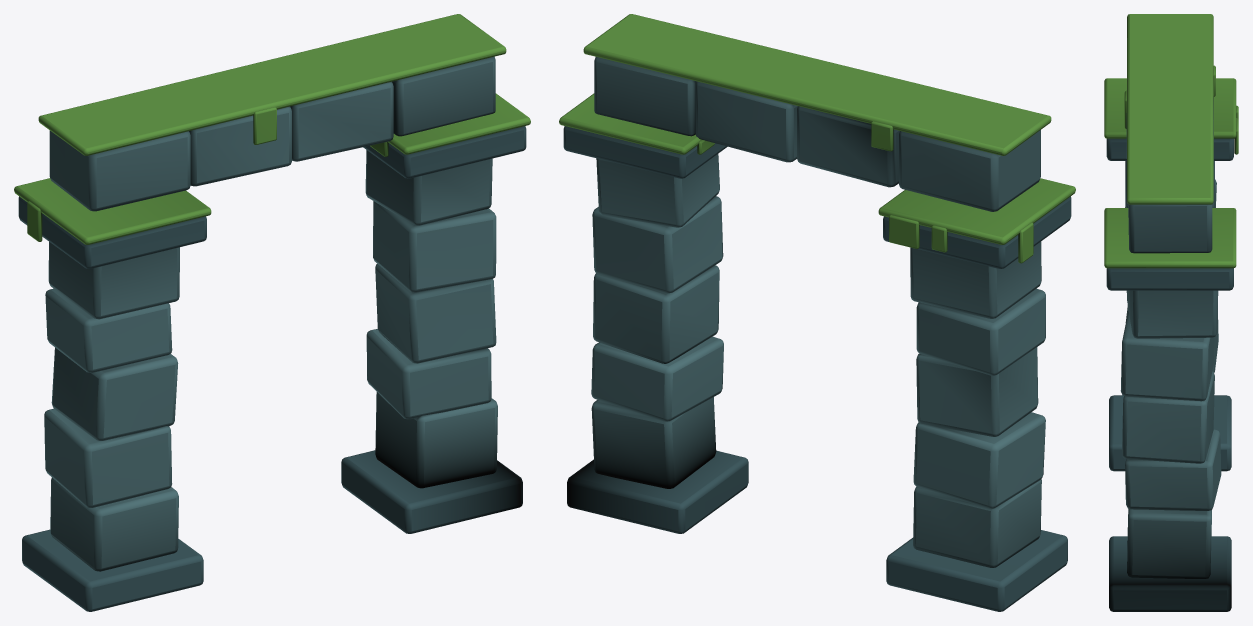
Rendered from ruin_arch.glb.
3 views of the same model, side by side, from view 1: azimuth 30°, elevation 25°; view 2: azimuth 150°, elevation 25°; view 3: azimuth 270°, elevation 25° (orthographic). The views are drawn at different scales.
Parts seen in each view (by area): view 1: ruin_arch_mesh; view 2: ruin_arch_mesh; view 3: ruin_arch_mesh.
Boxes of the visible parts, x1,y1,x2,y2 form: ruin_arch_mesh: (14,14,530,611); ruin_arch_mesh: (559,14,1075,611); ruin_arch_mesh: (1104,14,1238,611).
Size of the model in its own units: 6.18 by 6 by 1.78.
